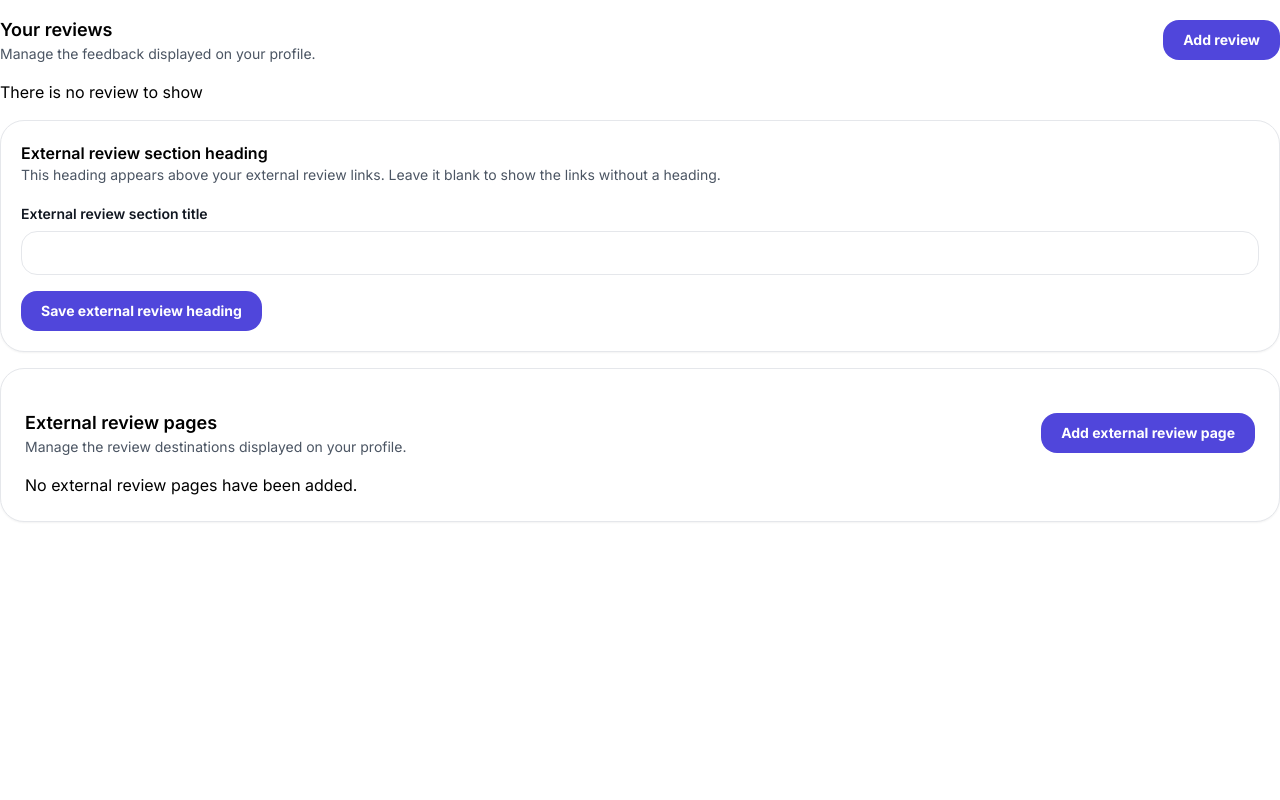
Test: ReviewManager › reloads exactly once after a successful review create
Click the button "Add review" at x=1222, y=40, box [1163,20,1279,60]
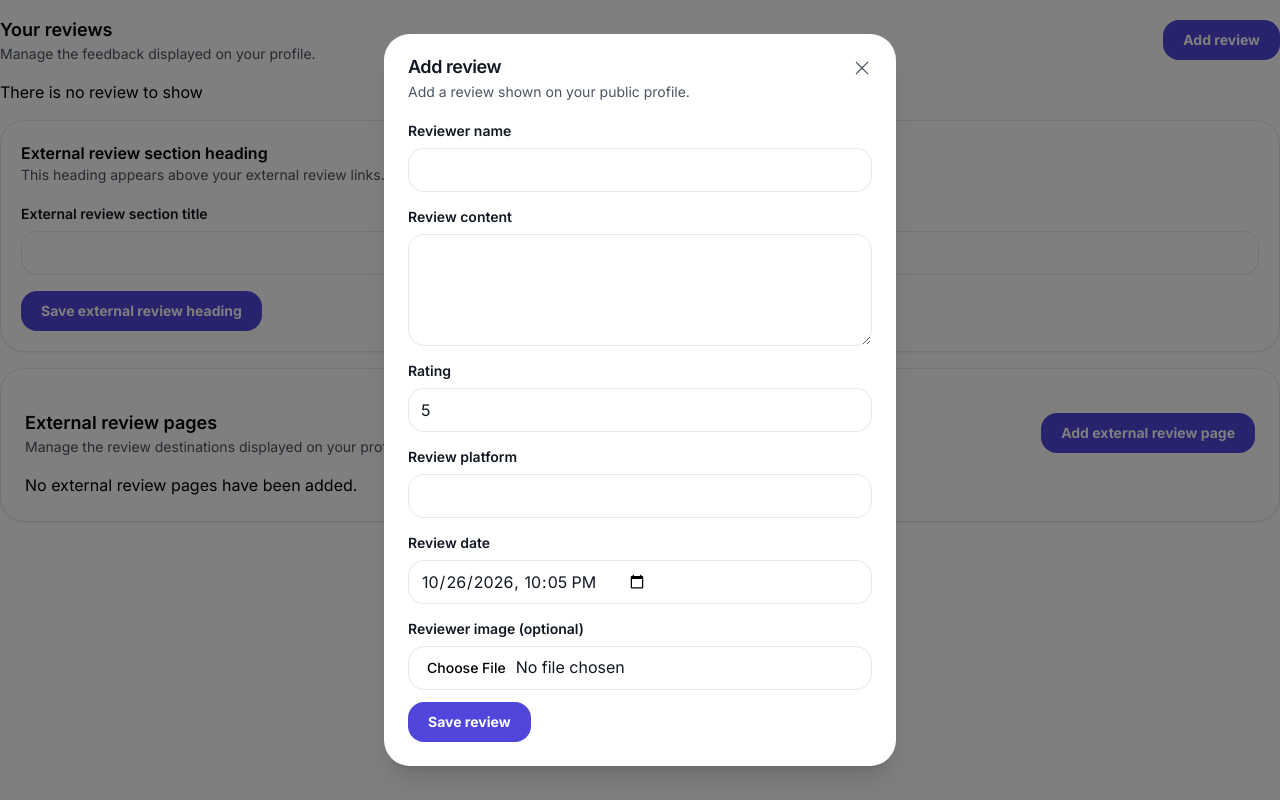
Type "Patient" into the field labelled "Reviewer name" at x=640, y=170, box [408,148,872,192]
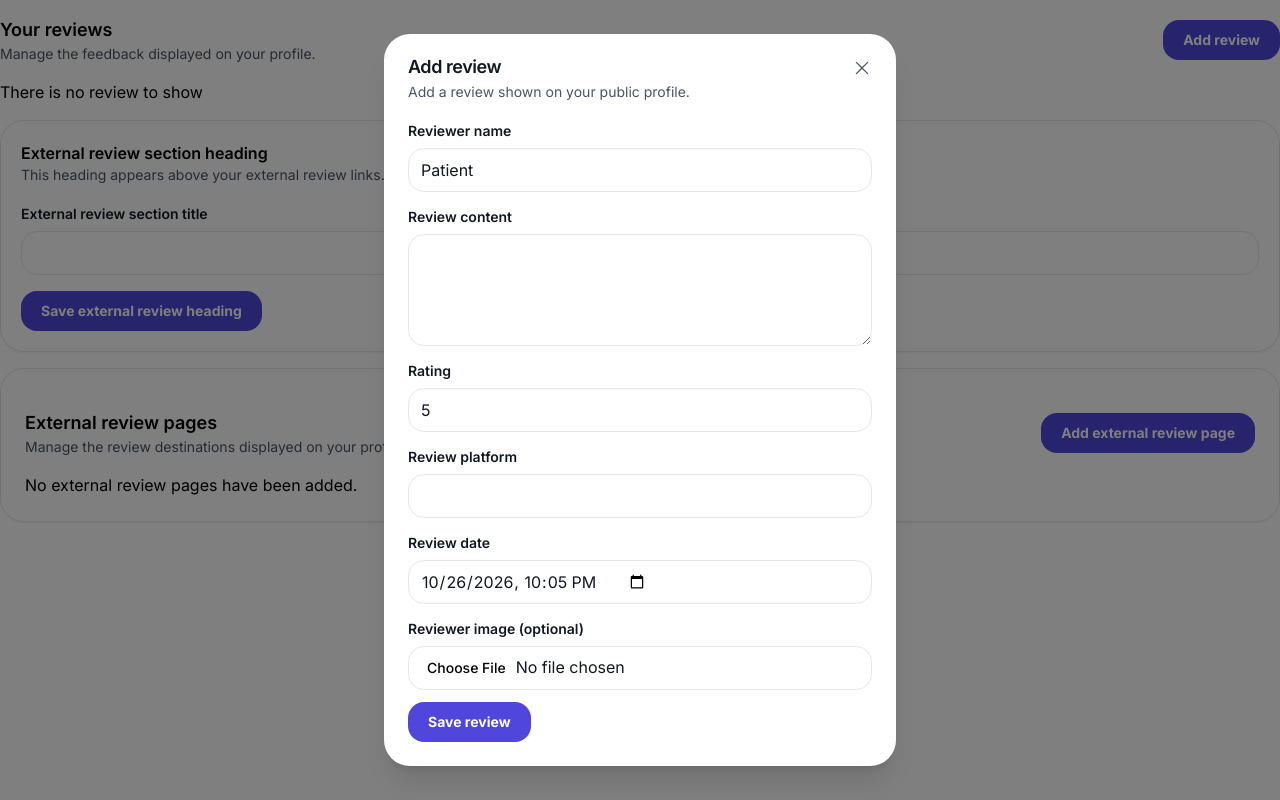
Type "A wonderful and thoughtful appointment." into the text box labelled "Review content" at x=640, y=290, box [408,234,872,346]
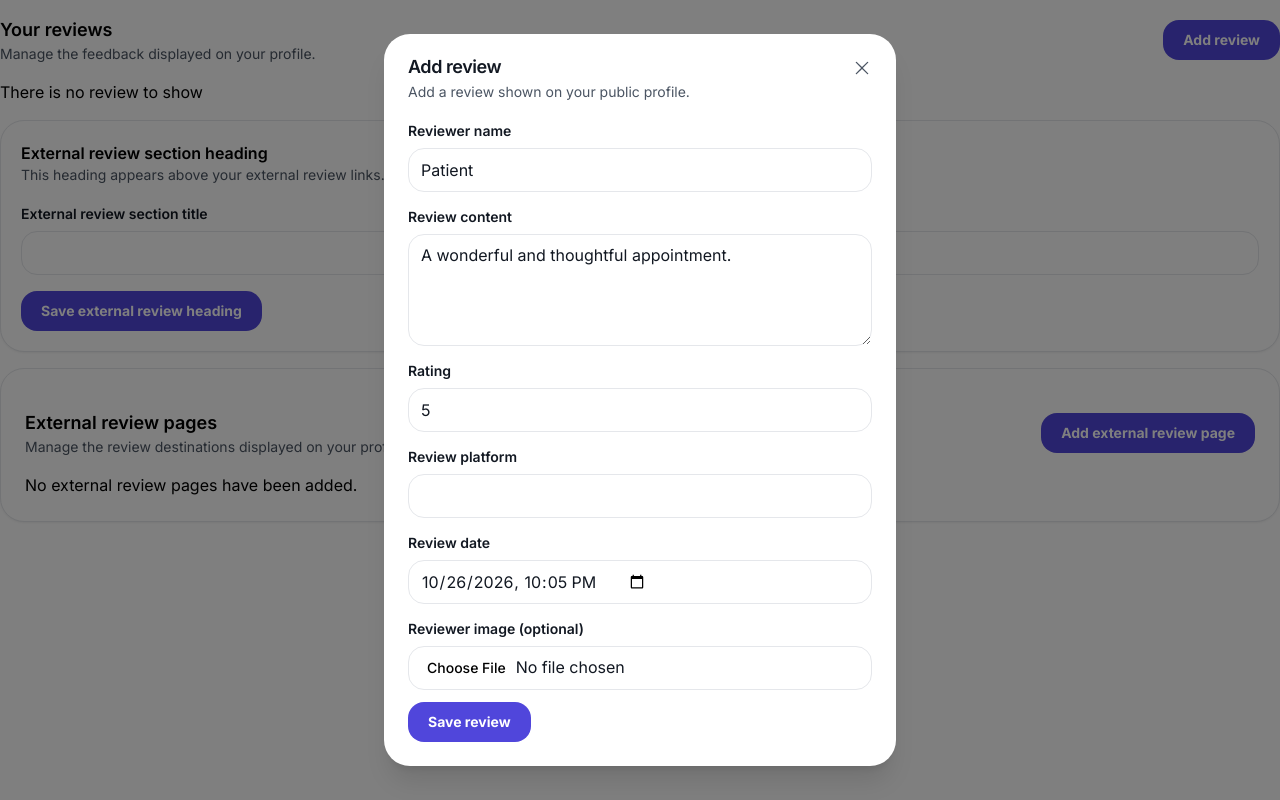
Type "Google" into the field labelled "Review platform" at x=640, y=496, box [408,474,872,518]
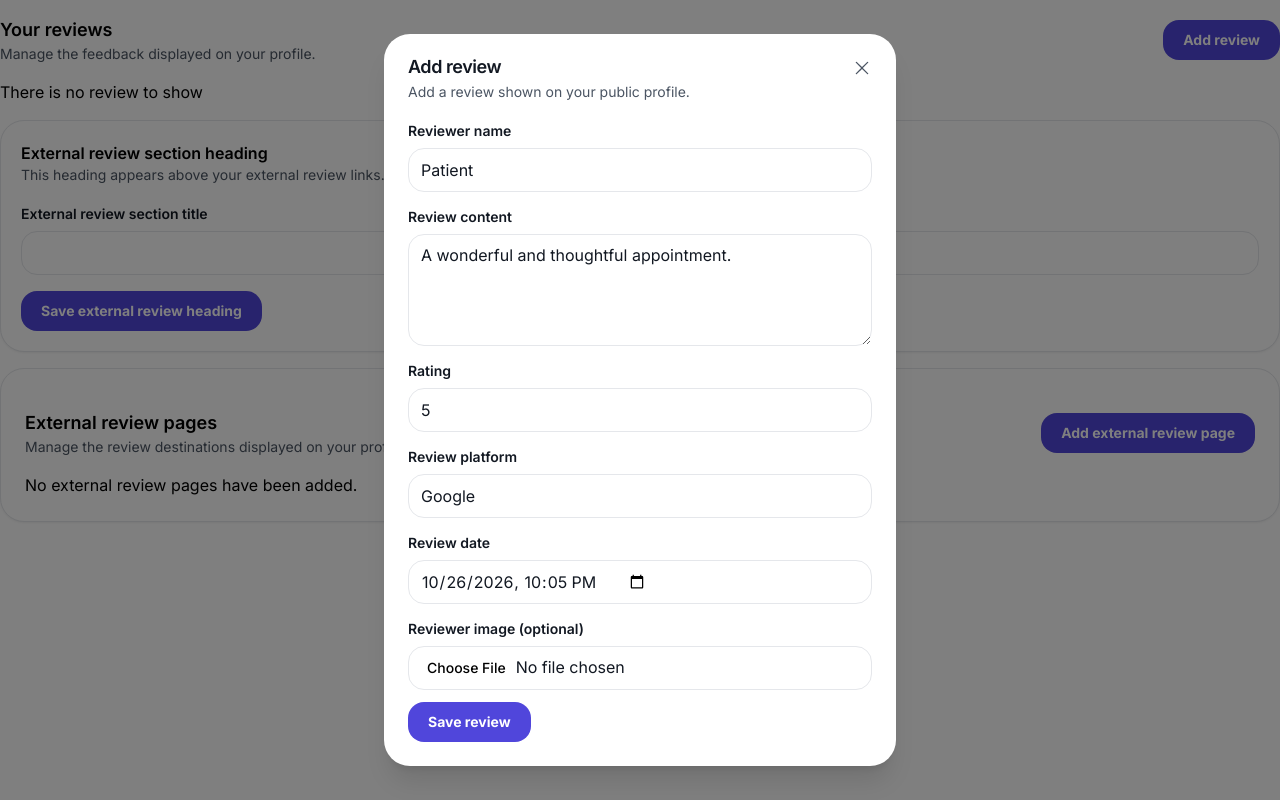
Click the button "Save review" at x=469, y=722, box [408,702,531,742]
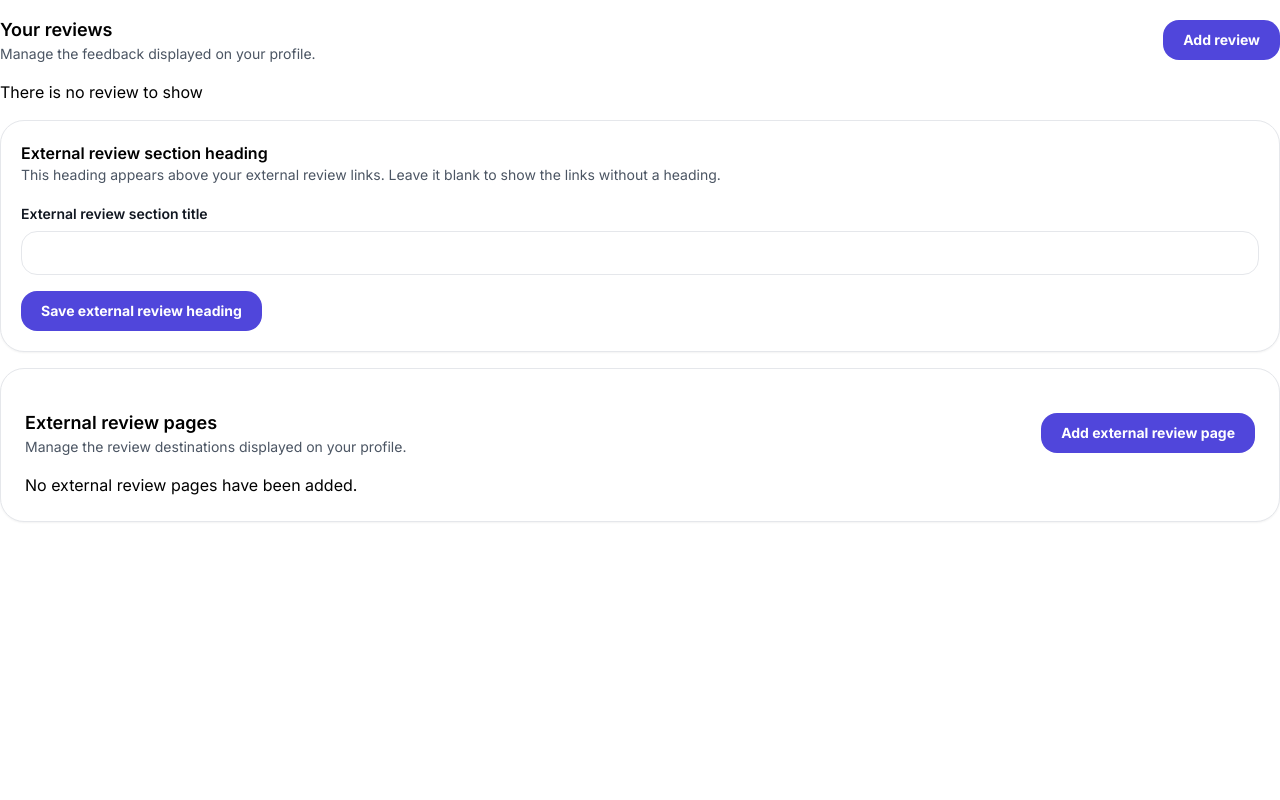
Result: the dialog is gone
